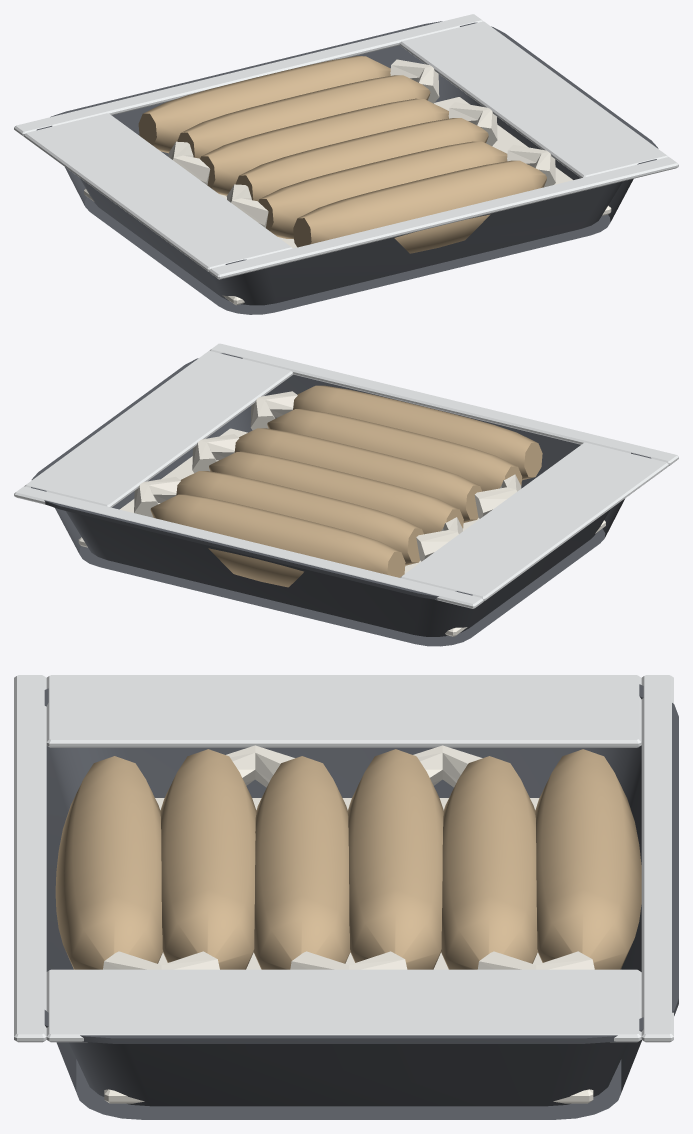
File: fresh-produce-and-groceries-sausage-pack-664b29a9__24403.glb
3 renders of one model, top to bottom at view 1: azimuth 30°, elevation 25°; view 2: azimuth 150°, elevation 25°; view 3: azimuth 270°, elevation 25°, orthographic. The views are drawn at different scales.
Visible parts, largest first — view 1: sausage-pack; view 2: sausage-pack; view 3: sausage-pack.
Part boxes in pixels (left/top/right/bottom): sausage-pack: left=14, top=14, right=678, bottom=314; sausage-pack: left=14, top=343, right=678, bottom=646; sausage-pack: left=14, top=675, right=678, bottom=1119.
Size of the model in its own units: 0.2112 by 0.036 by 0.1632.
